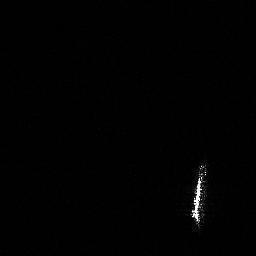ship: (183, 158, 207, 233)
